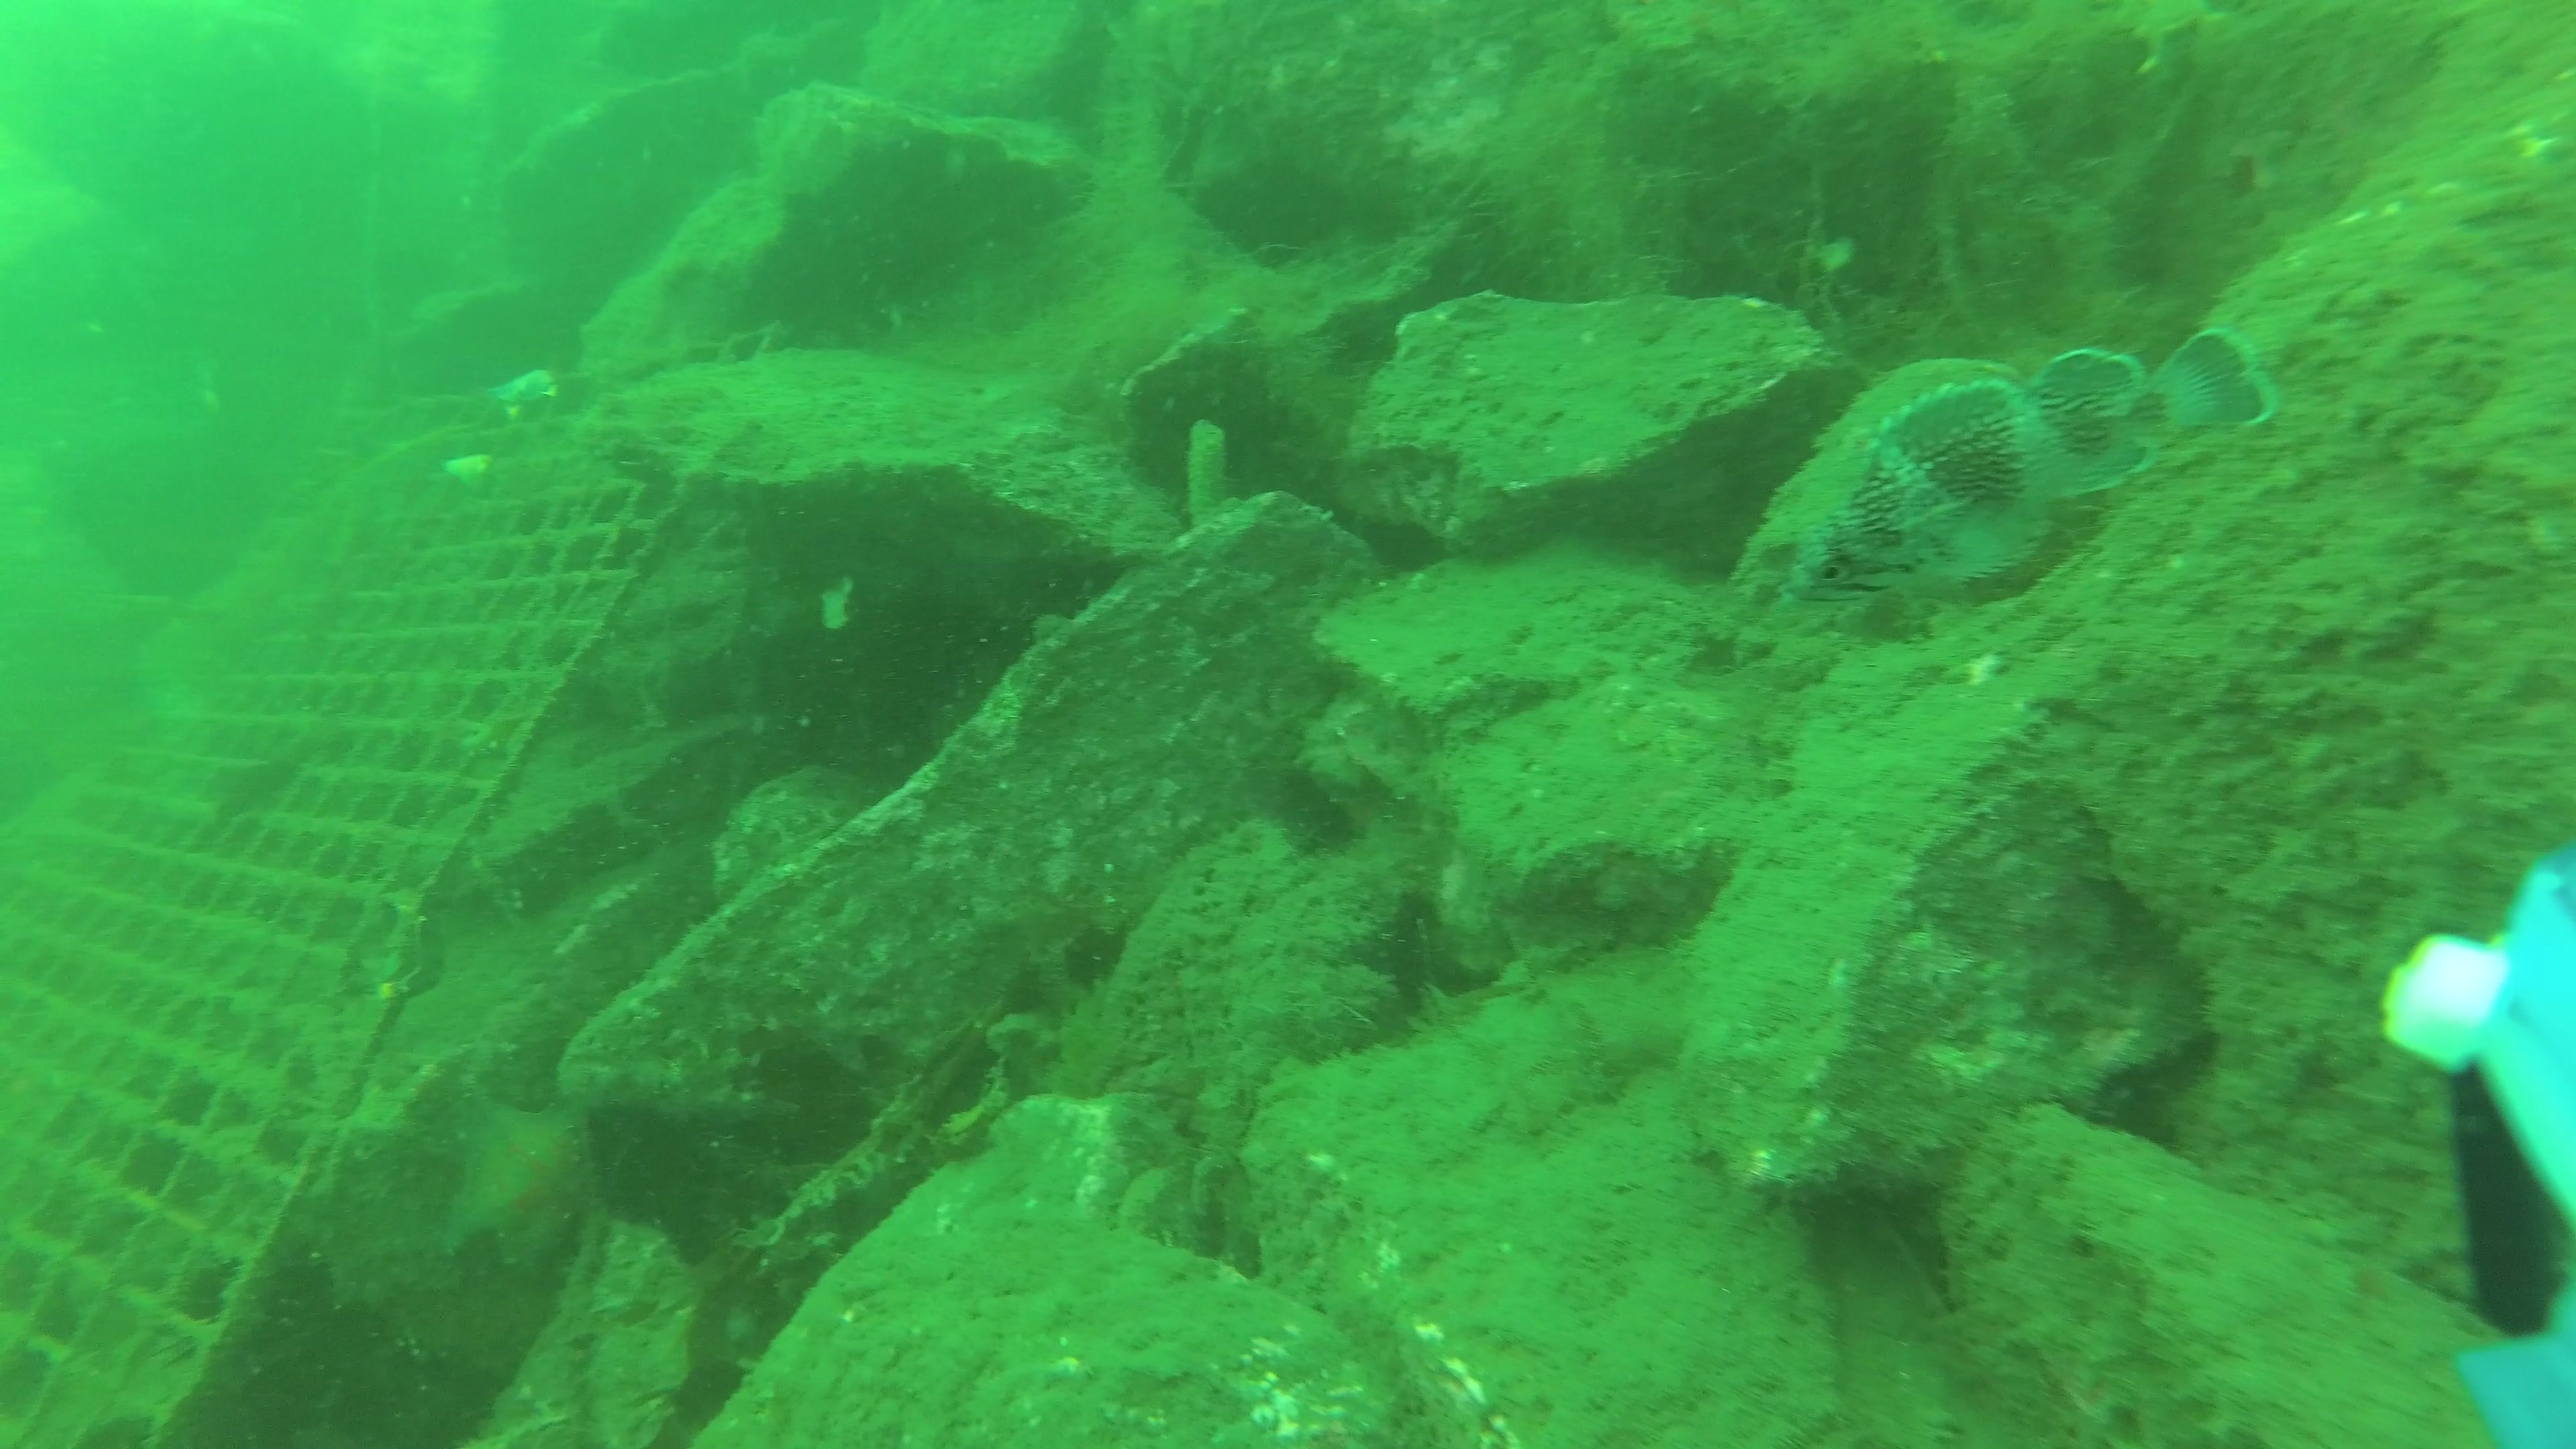starfish: (451, 1092, 600, 1269)
